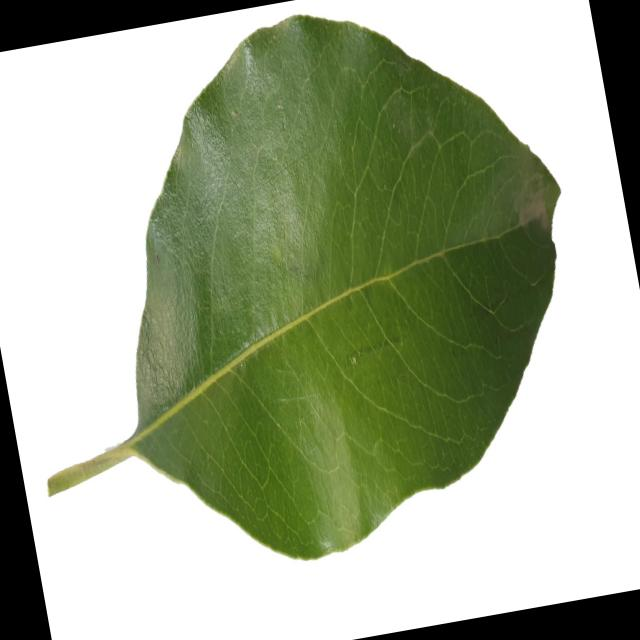Medicinal-Sandalwood: (0, 0, 616, 599)
